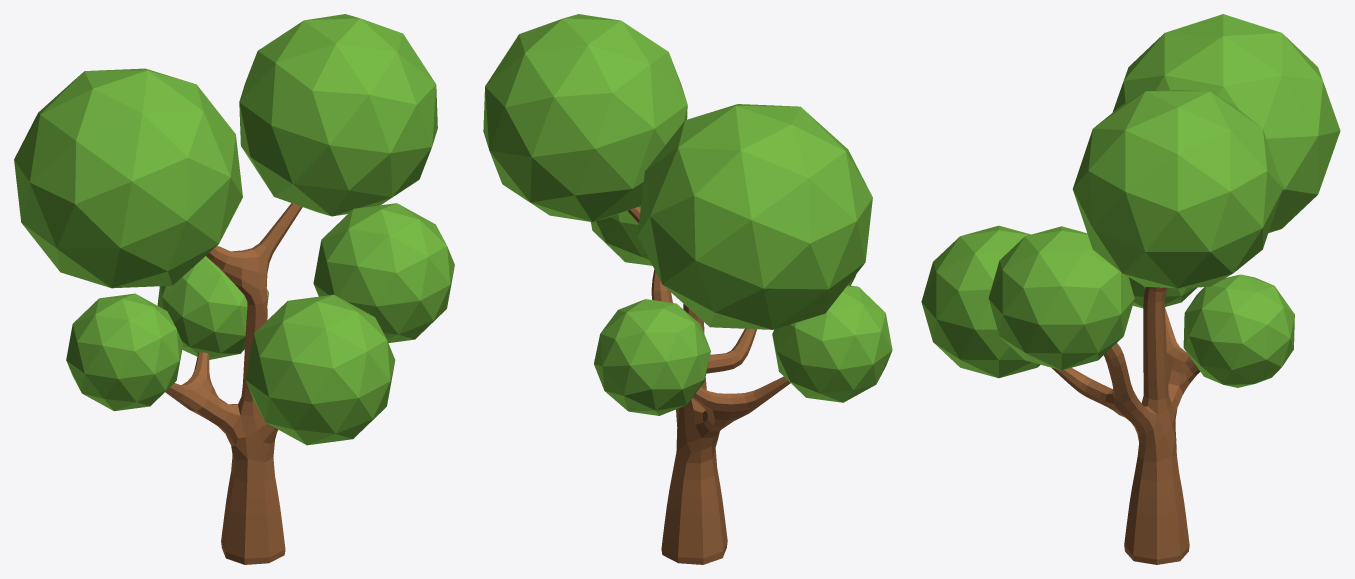
The model's file is Tree_01.fbx.
The picture shows the model from 3 angles, left to right: view 1: azimuth 30°, elevation 25°; view 2: azimuth 150°, elevation 25°; view 3: azimuth 270°, elevation 25°; orthographic projection. The views are drawn at different scales.
Visible parts, largest first — view 1: Tree_01; view 2: Tree_01; view 3: Tree_01.
Part boxes in pixels (bbox=[...]): Tree_01: bbox=[14, 14, 454, 564]; Tree_01: bbox=[483, 14, 892, 564]; Tree_01: bbox=[921, 14, 1340, 564].
Bounding box in the file's own units: 680 × 863 × 653.
